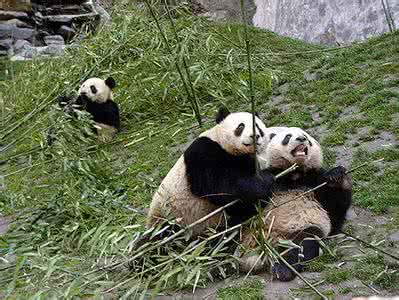panda: (144, 103, 274, 282), (253, 127, 353, 285), (50, 74, 122, 156)
